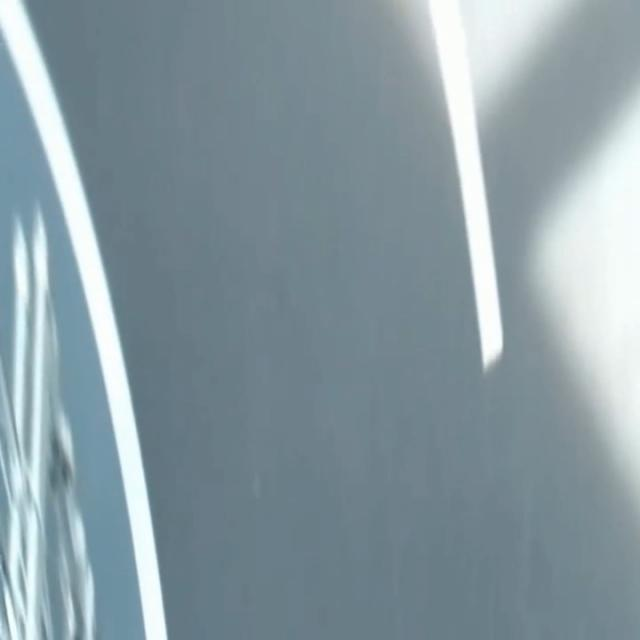center: (428, 0, 502, 372)
